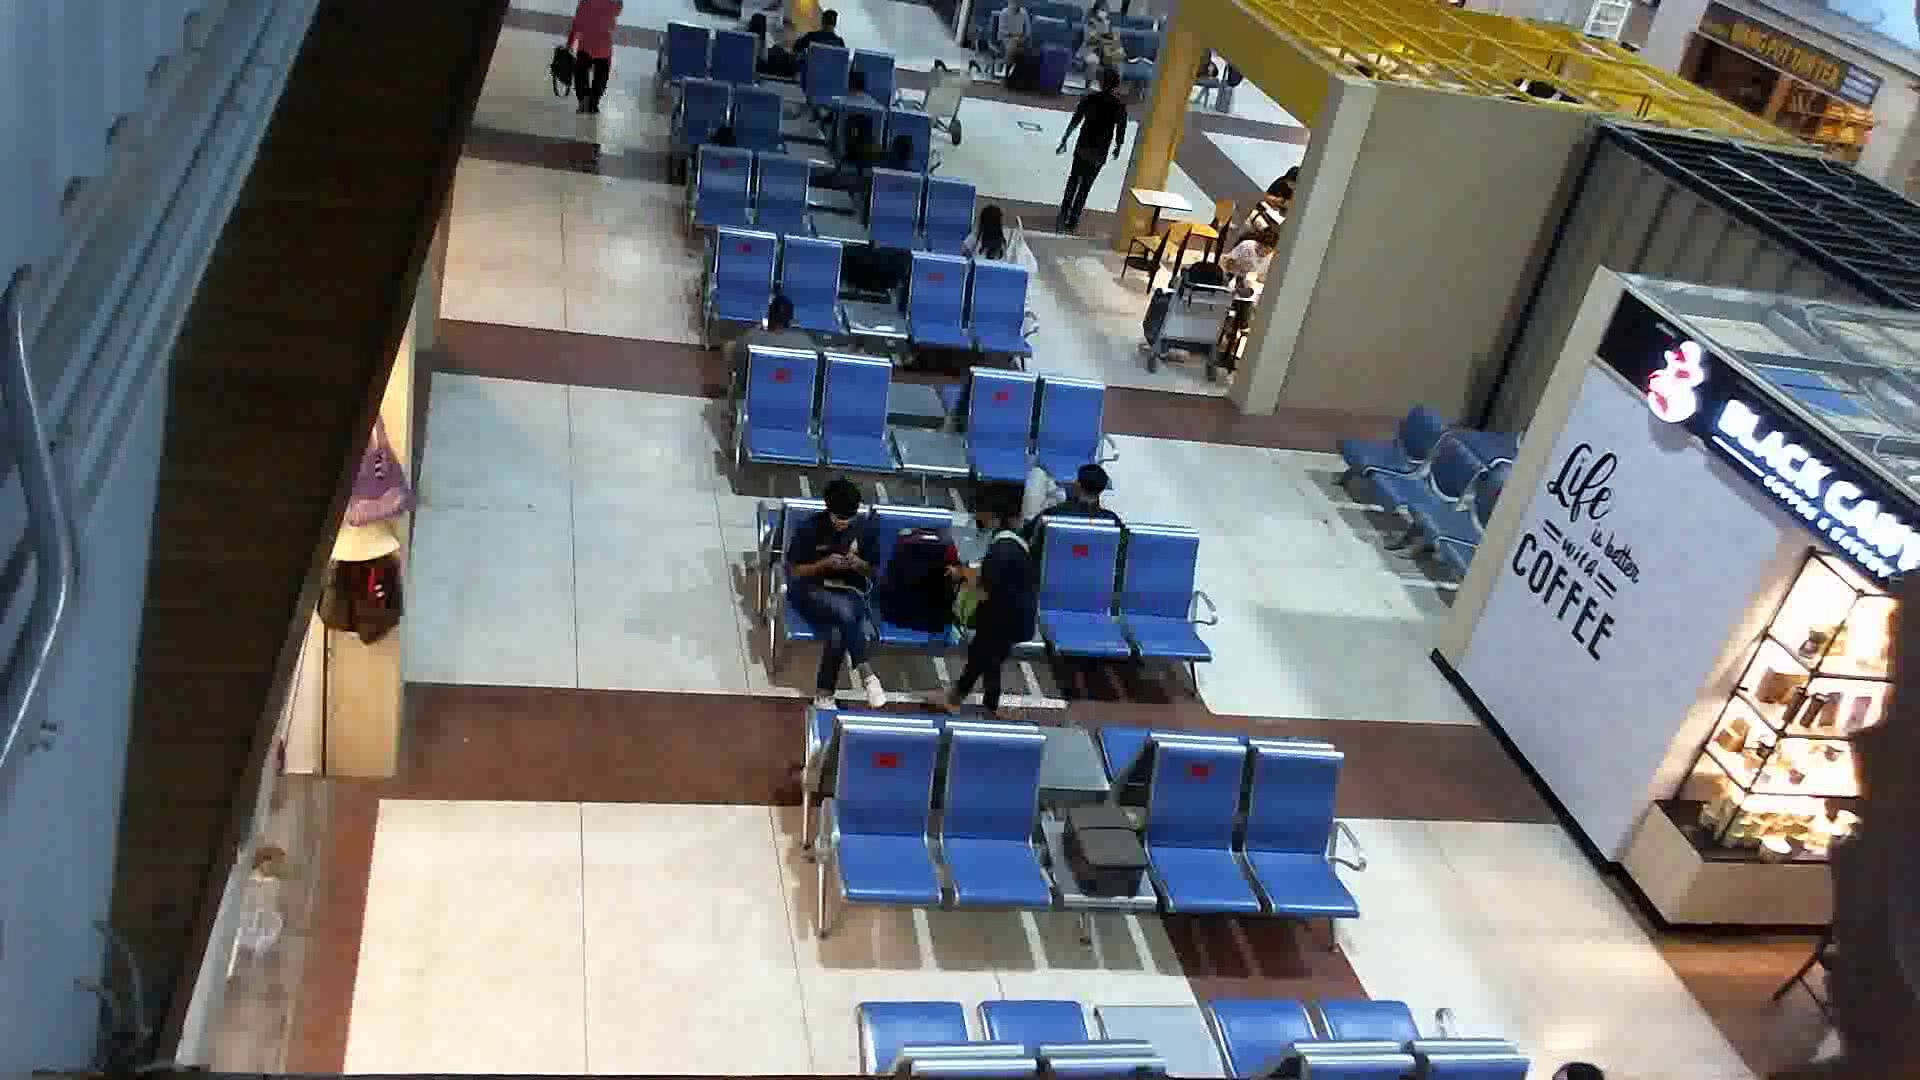bag: (336, 408, 429, 531), (544, 46, 588, 99)
luggage: (1057, 796, 1155, 901), (891, 524, 973, 631)
people: (930, 483, 1049, 727), (781, 475, 894, 724), (1057, 65, 1126, 244), (556, 1, 620, 121)
